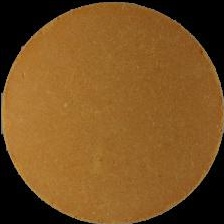33261-756: (0, 0, 224, 224)
